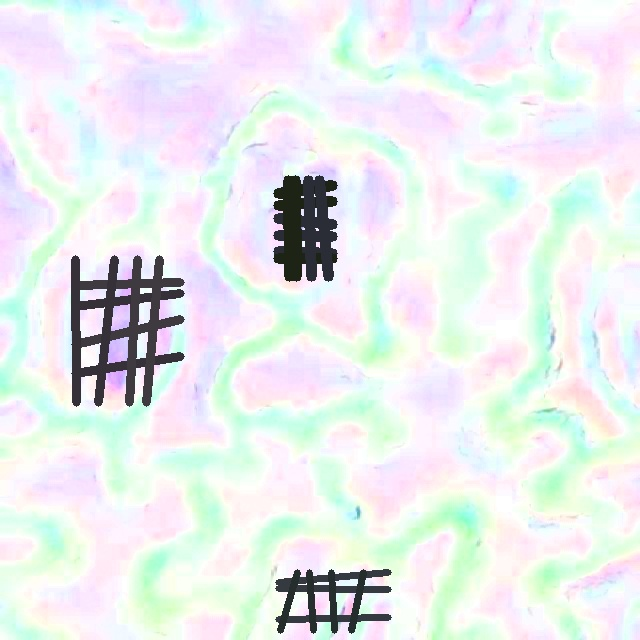open: (71, 255, 184, 406), (275, 569, 391, 633), (274, 175, 337, 281)
